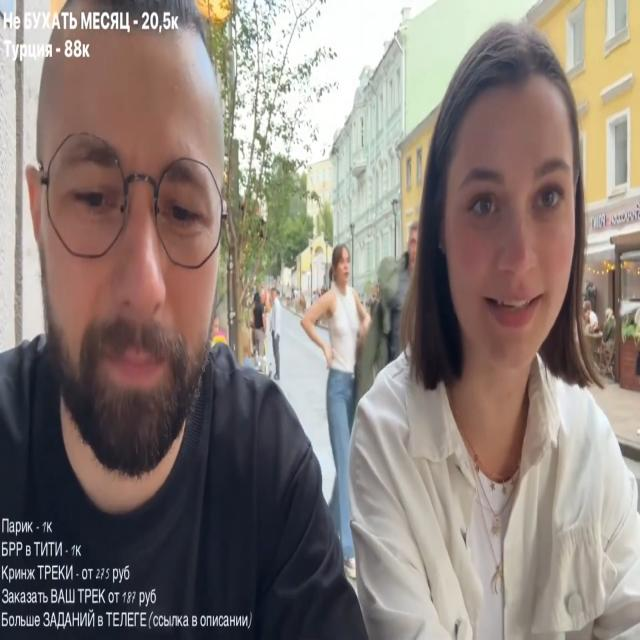Person: (0, 24, 349, 639), (306, 22, 640, 640), (300, 239, 370, 514)
